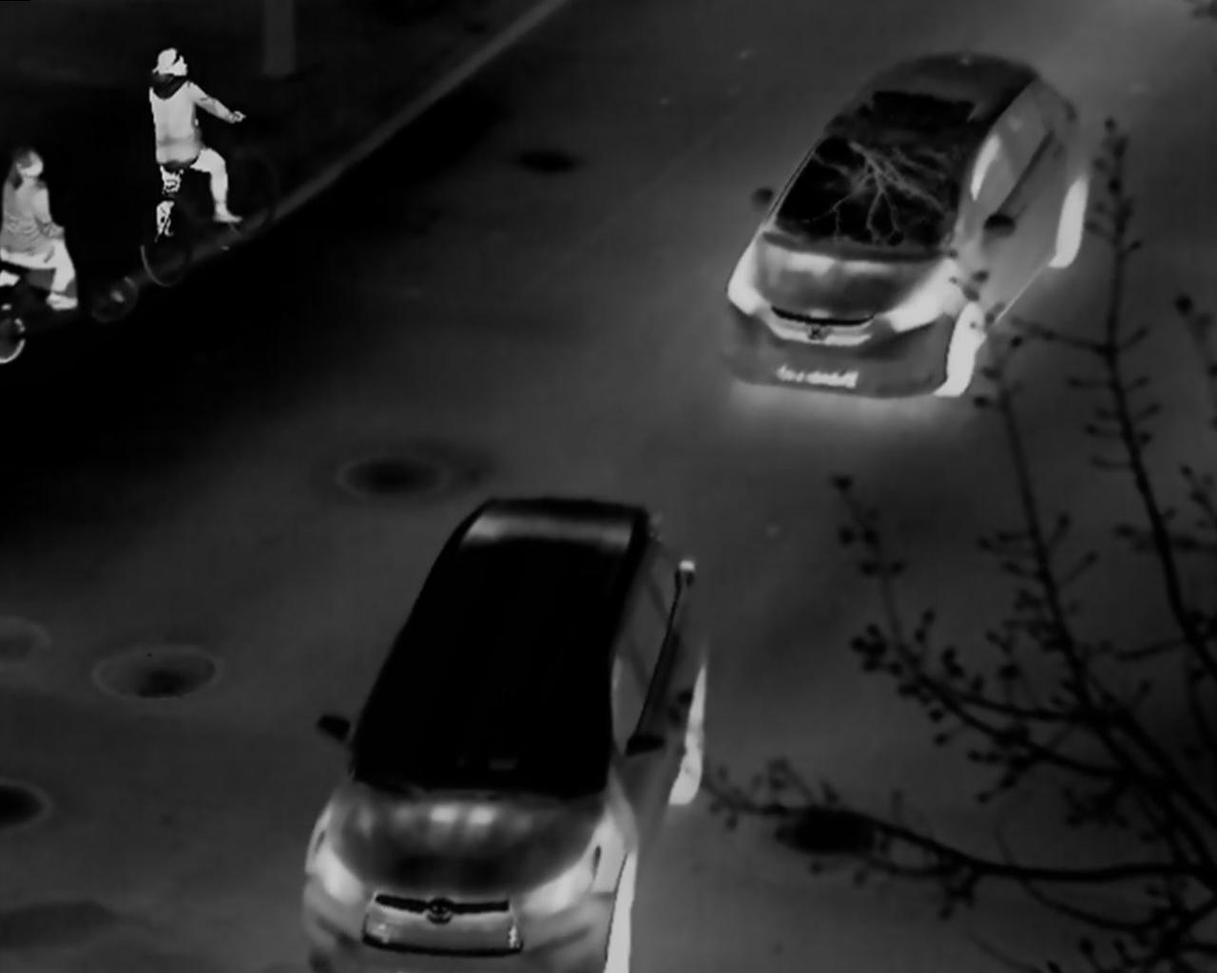person: (148, 48, 246, 235)
